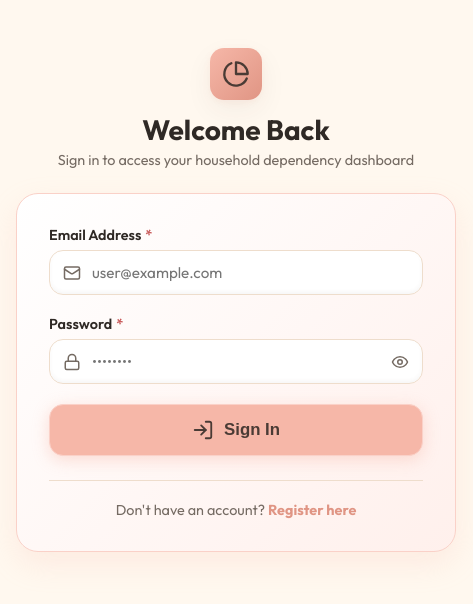
Test: Phase 11: End-to-End Frontend Integration Test Suite › 1. Authentication Integration › TC-INT-02: Login failure displays error toast message
Type "wrong@example.com" into the field labelled "Email Address *" at (236, 272), box [49,250,423,295]
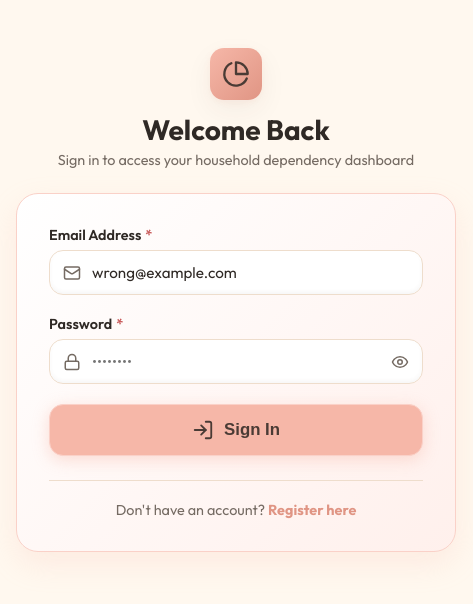
Type "wrongpass" into the password field labelled "Password *" at (236, 362), box [49,339,423,384]
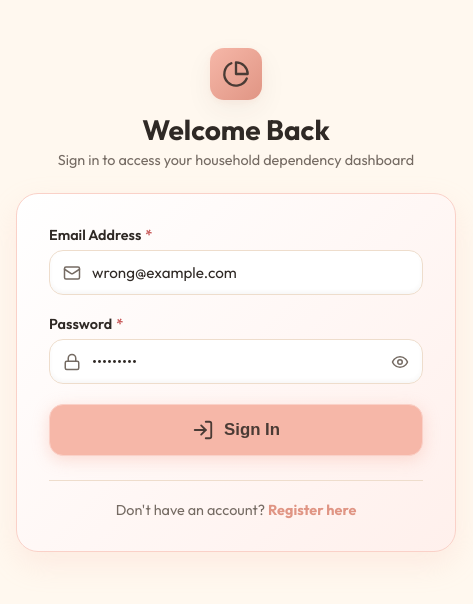
Click the button "Sign In" at (236, 430), box [49,404,423,456]
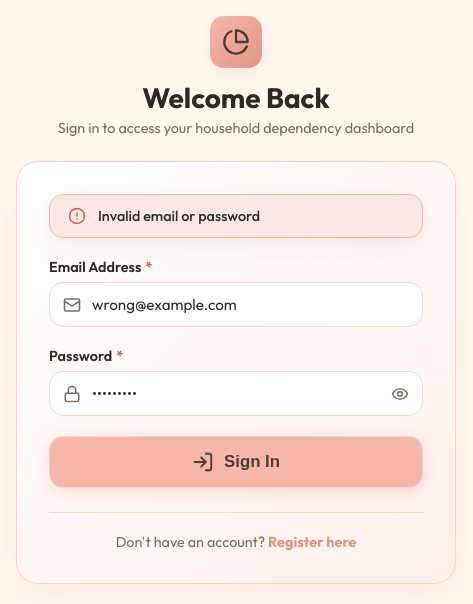
Expected: the text "Invalid email or password" is shown, [98,207,260,225]
